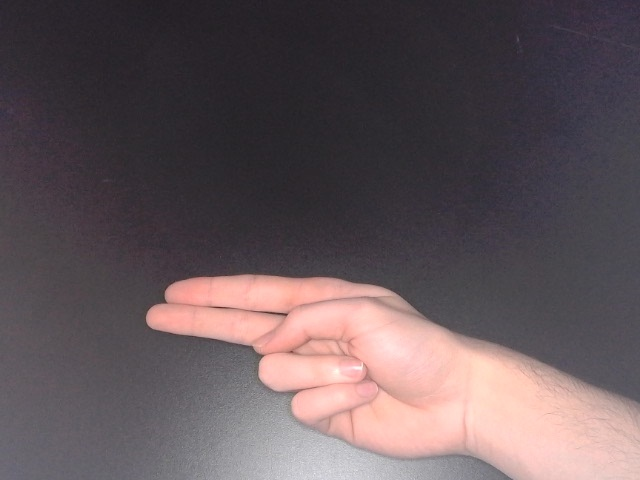h: (142, 271, 500, 470)
